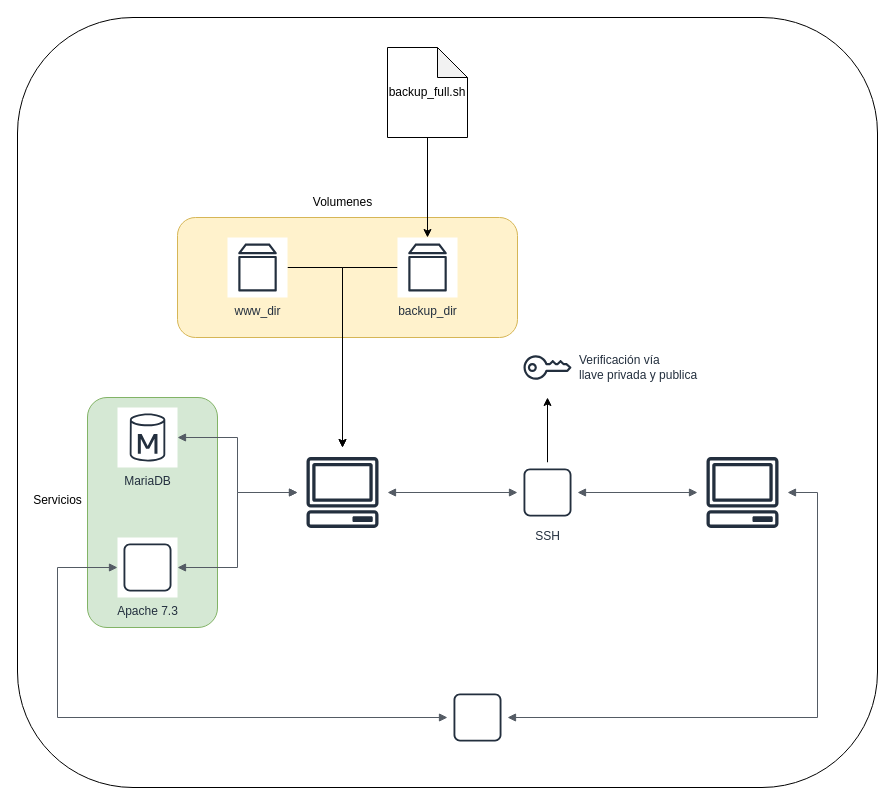
Some shapes in this 895 by 805 pixel diagram are drawn without their labels. The shapes that lost their labels are listed below. From the top down, each one's centre as x and y in pixels, then its label:
(342,492): TPServer (S.O:Debian)
(742,492): Cliente
(477,717): HTTP
